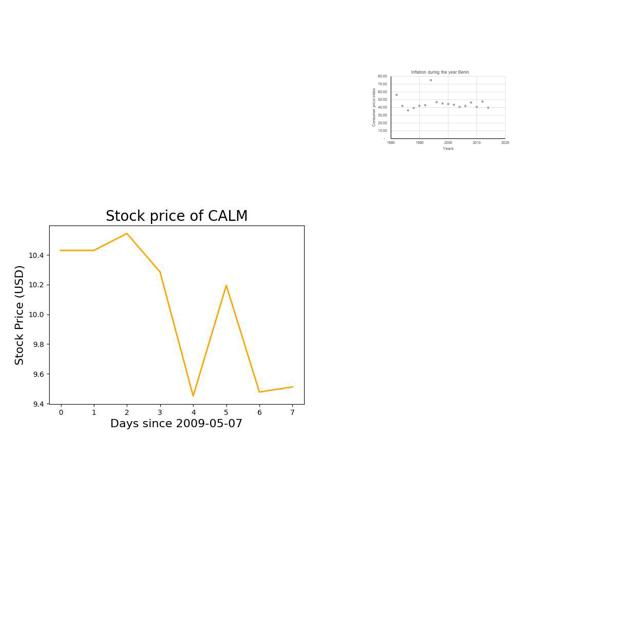Graph: (8, 190, 337, 437), (371, 68, 510, 151)
